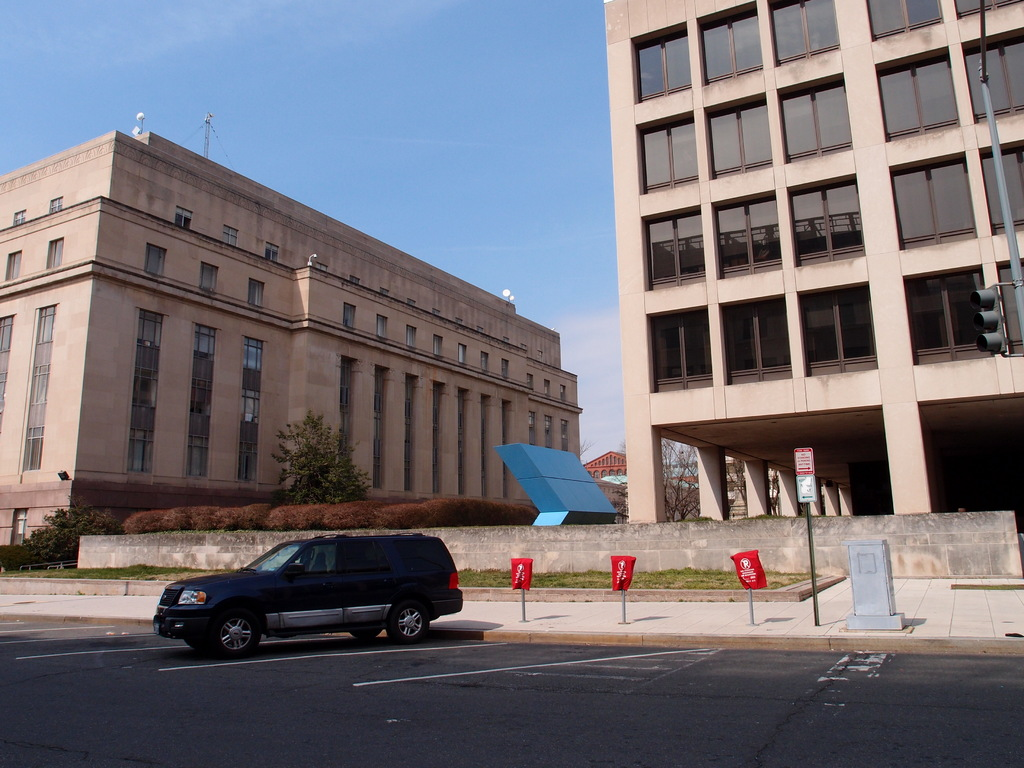Car: (152, 533, 464, 658)
